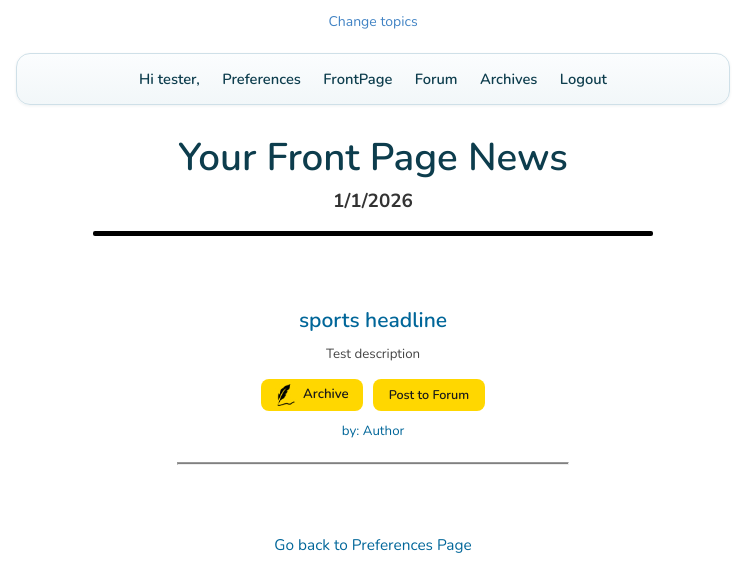
Test: refetches topics on navigation changes and removes old articles
Expected: the link "sports headline" is shown, left=299, top=306, right=447, bottom=334
Click the link "Change topics" at (373, 22), box left=328, top=12, right=418, bottom=31
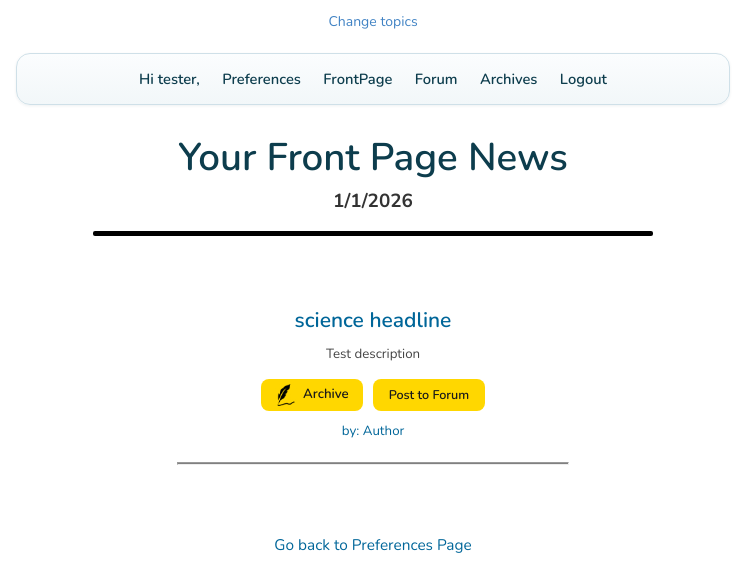
Now the link "science headline" is shown, box left=295, top=306, right=451, bottom=334
Now the link "sports headline" is gone
